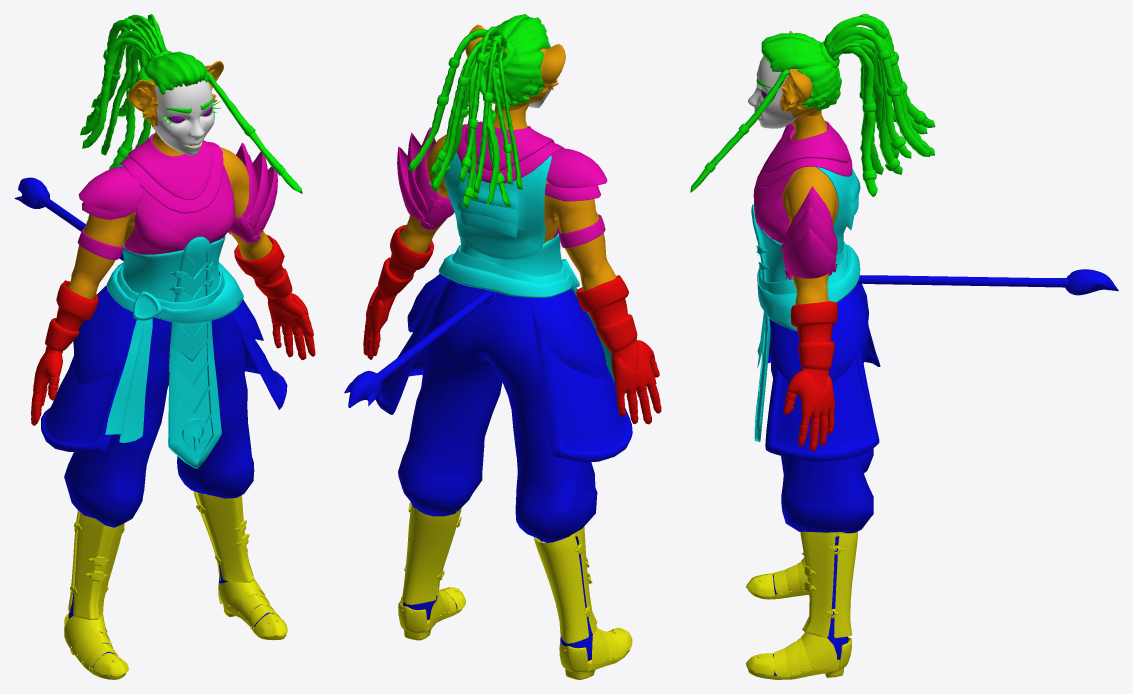
The model's file is Aberash_4_Rigging.fbx.
The picture shows the model from 3 angles, left to right: view 1: azimuth 30°, elevation 25°; view 2: azimuth 150°, elevation 25°; view 3: azimuth 270°, elevation 25°; orthographic projection. The views are drawn at different scales.
Parts seen in each view (by area): view 1: aberash_4_rigging; view 2: aberash_4_rigging; view 3: aberash_4_rigging.
Part boxes in pixels (left/top/right/bottom): aberash_4_rigging: left=14, top=14, right=315, bottom=679; aberash_4_rigging: left=344, top=14, right=661, bottom=679; aberash_4_rigging: left=690, top=14, right=1118, bottom=679.
Bounding box in the file's own units: 9.62 × 19.84 × 12.54.
